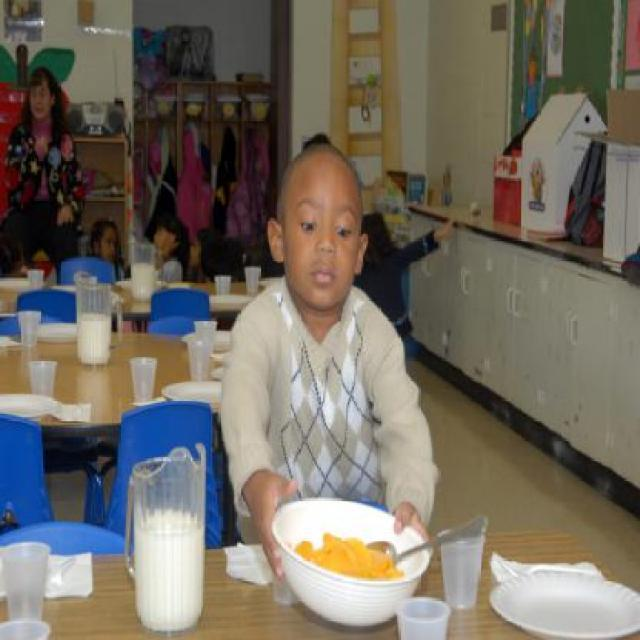Milk: (133, 512, 204, 630), (78, 314, 114, 366), (132, 263, 156, 302)
